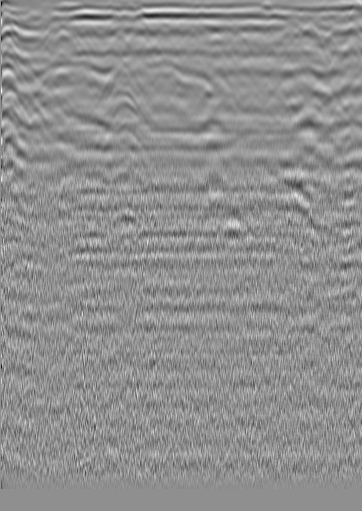가스: (108, 206, 143, 232)
상수: (20, 21, 40, 41)
오수: (300, 25, 320, 45)
우수: (151, 21, 171, 41)
